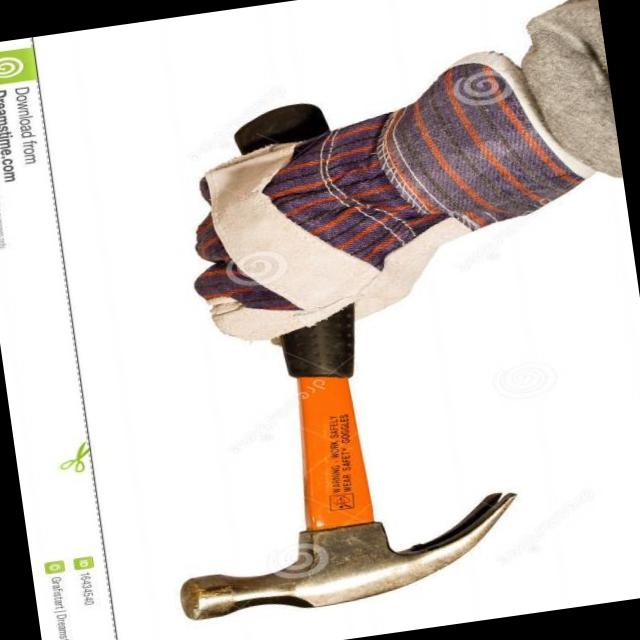hammer: (180, 305, 514, 619), (235, 104, 328, 153)
